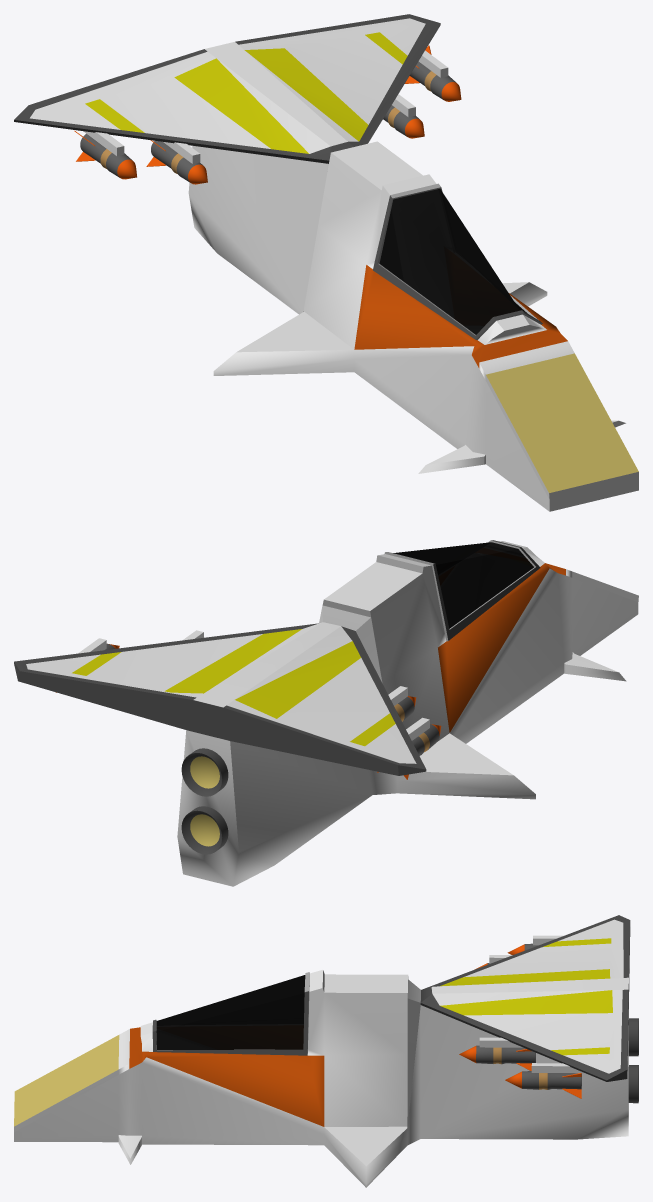
File: EnemyShipBase.fbx
3 renders of one model, top to bottom at view 1: azimuth 30°, elevation 25°; view 2: azimuth 150°, elevation 25°; view 3: azimuth 270°, elevation 25°, orthographic. The views are drawn at different scales.
Parts seen in each view (by area): view 1: pCube6; view 2: pCube6; view 3: pCube6.
Part boxes in pixels (left/top/right/bottom): pCube6: left=14, top=14, right=638, bottom=511; pCube6: left=14, top=540, right=638, bottom=886; pCube6: left=14, top=915, right=638, bottom=1187.
Bounding box in the file's own units: 346 × 143 × 553.
